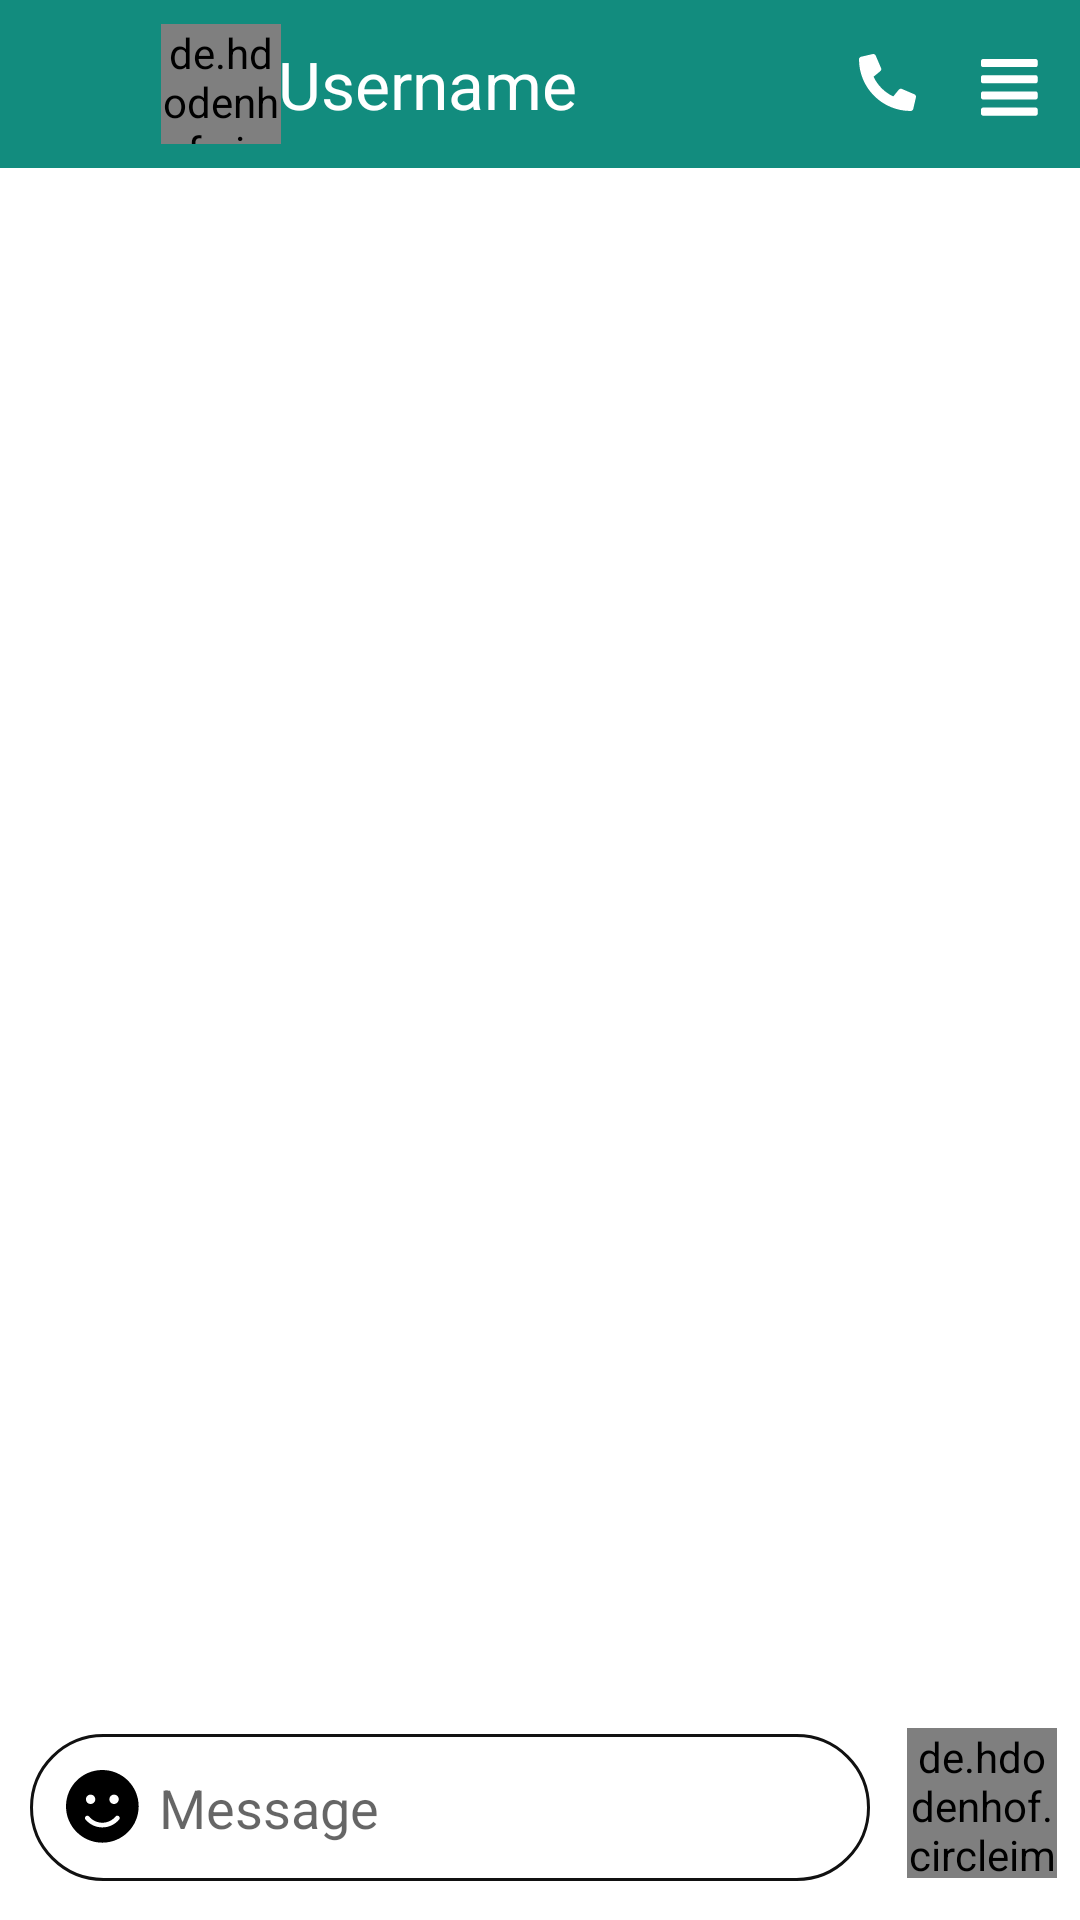

Where icons sit on this 1080px x 1920px app screen, as [x1, y1, x2, y2]:
call: [859, 54, 916, 111]
menu: [981, 59, 1038, 116]
